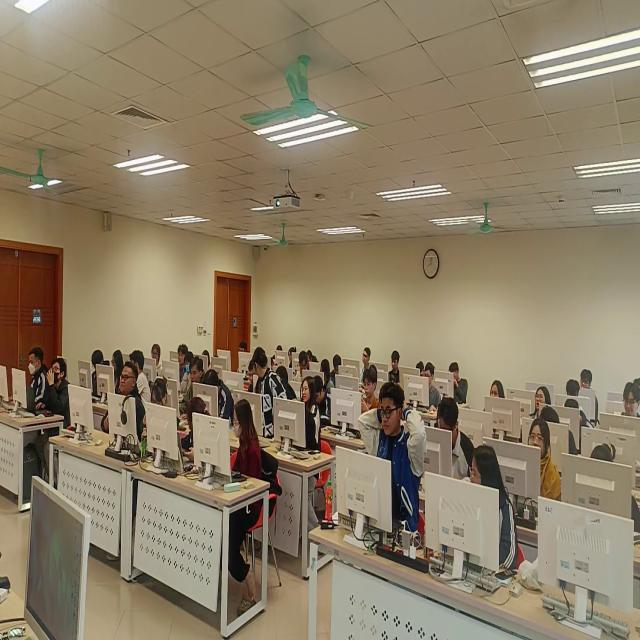raise_head: (366, 395, 427, 519), (514, 421, 562, 508), (89, 365, 141, 443), (292, 378, 322, 488), (42, 366, 73, 441), (483, 380, 508, 429), (617, 384, 640, 429), (528, 387, 553, 421), (350, 349, 376, 377), (580, 370, 600, 401), (149, 340, 166, 375), (173, 344, 190, 376)
stand: (253, 350, 285, 450)
using_computer: (582, 447, 636, 520), (1, 351, 47, 416), (139, 381, 173, 455), (172, 361, 206, 416), (541, 411, 579, 458), (410, 363, 441, 417), (560, 398, 590, 444), (82, 351, 109, 401), (384, 352, 406, 390)
using_phone: (348, 374, 382, 427)
